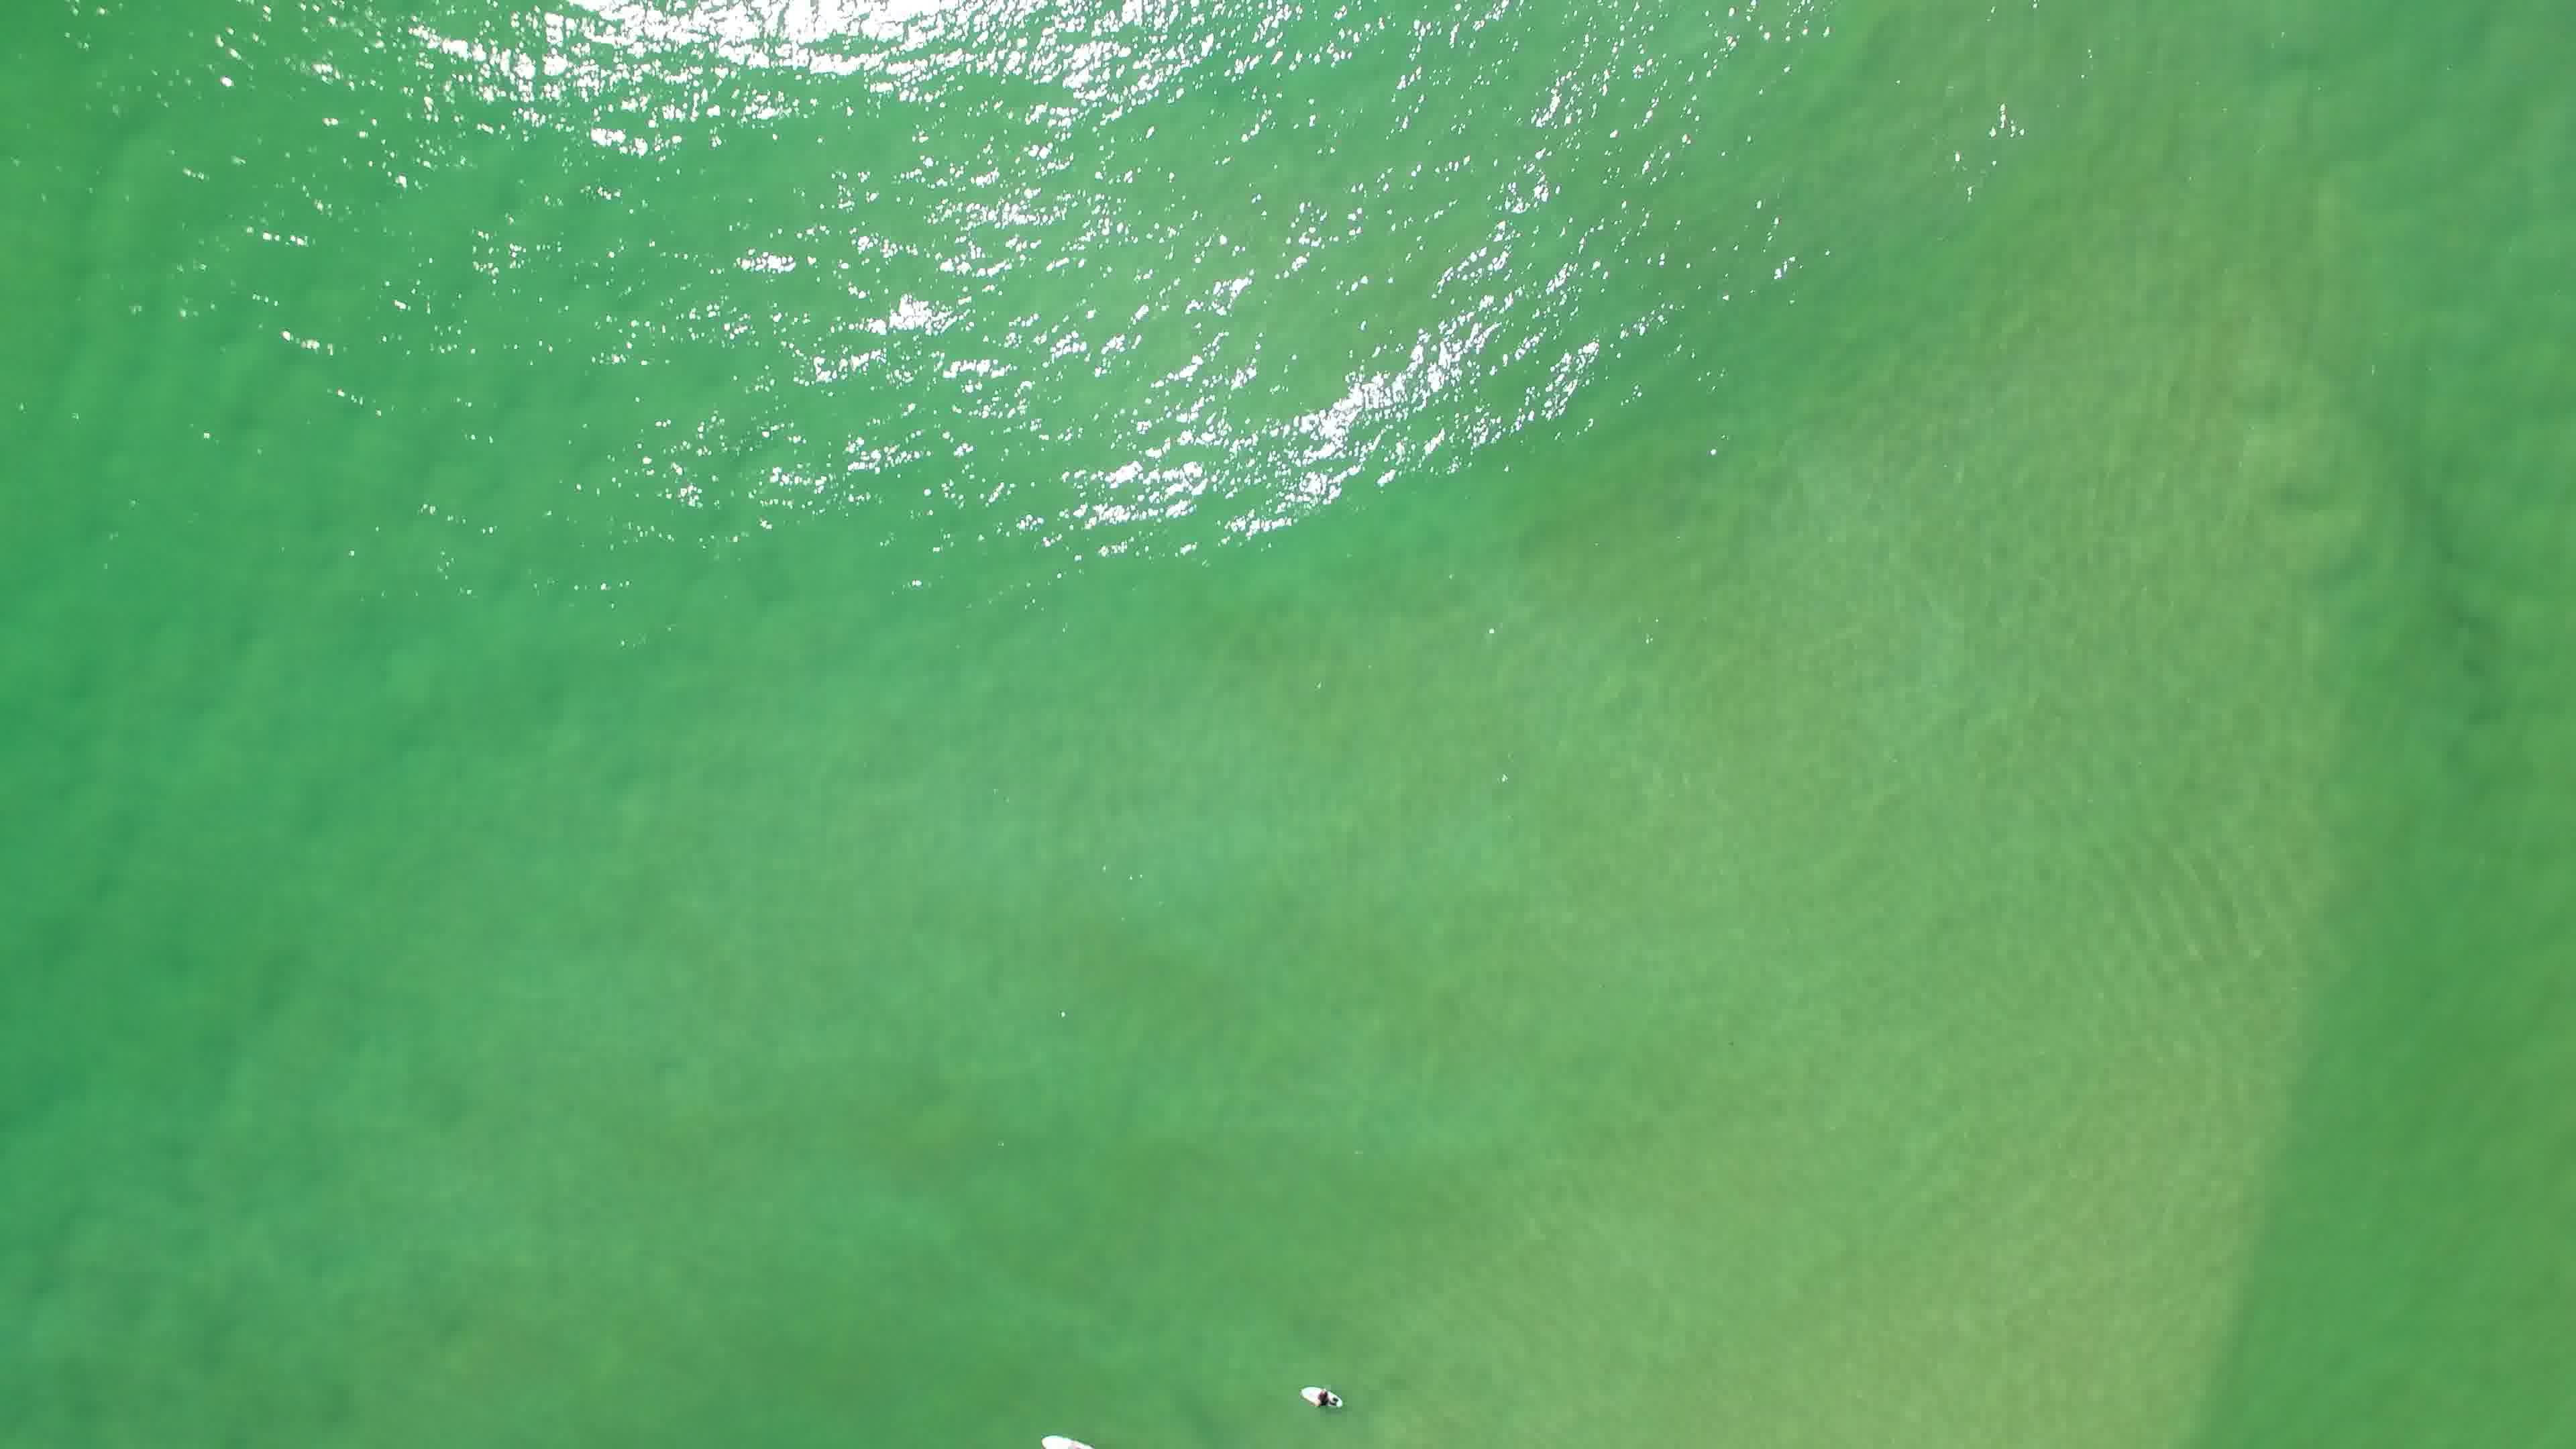surfer: (1297, 1376, 1353, 1417), (1030, 1428, 1102, 1449)
